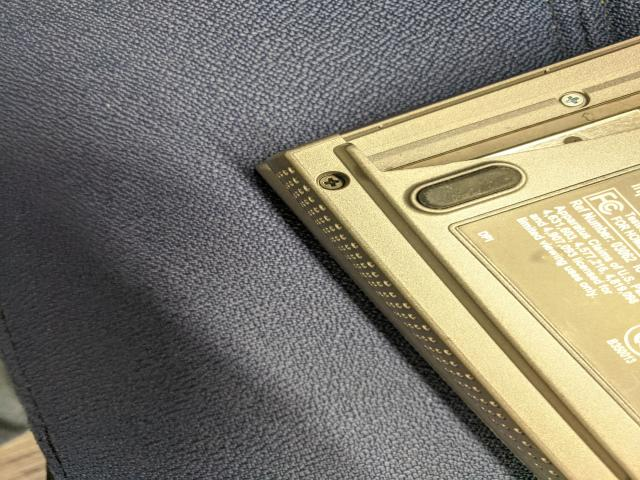CRS: (317, 174, 348, 190), (558, 92, 586, 105)
